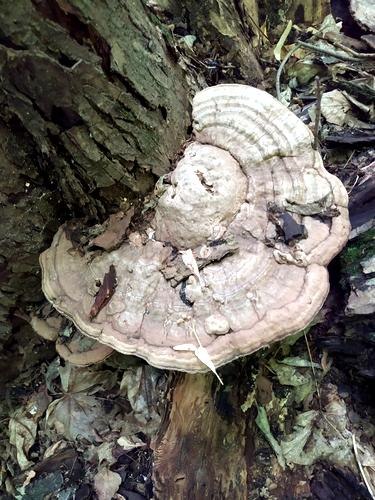Ganoderma - Fruit Body: (37, 81, 350, 376)
